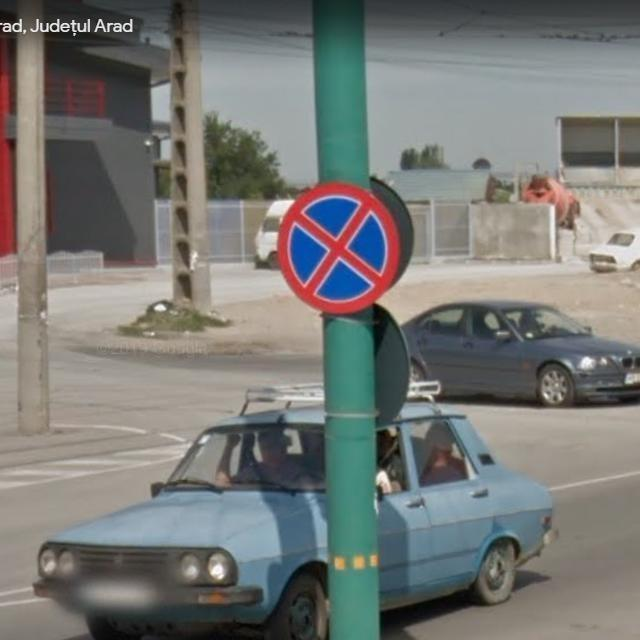forb_waiting: (276, 184, 399, 314)
